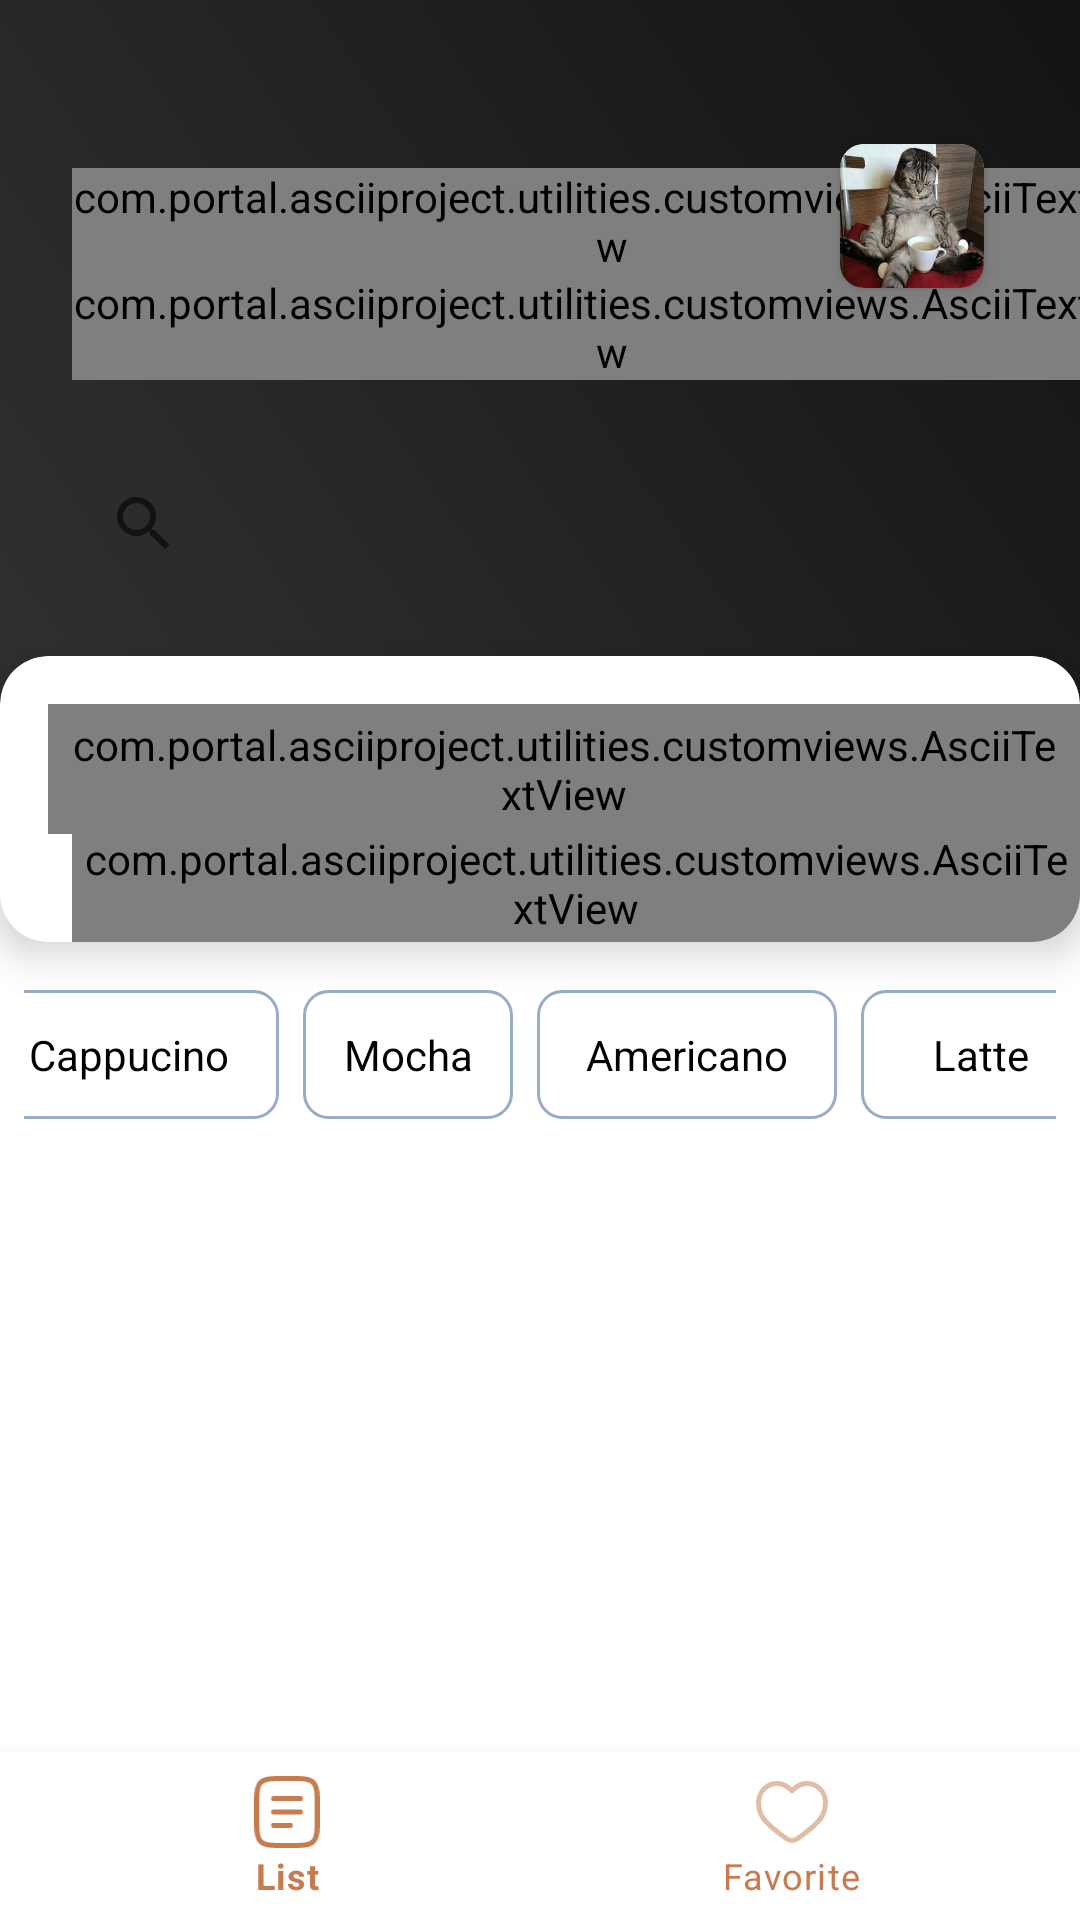

Screen size 1080*1920. Icon name, then its box in pixels as (x1, y1, x2, y2):
profilecat: (840, 144, 984, 288)
